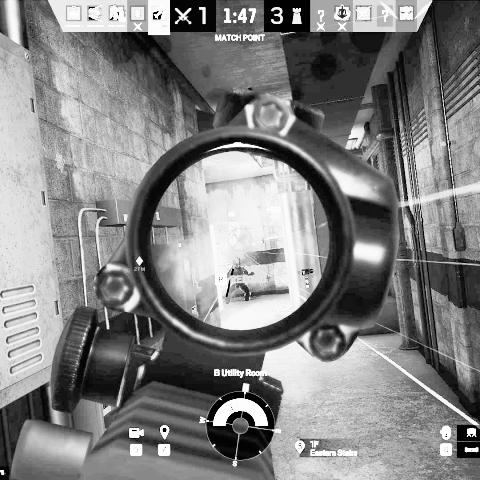Character: (222, 255, 256, 306)
Friend_label: (215, 210, 248, 226)
Head: (232, 258, 241, 268)
